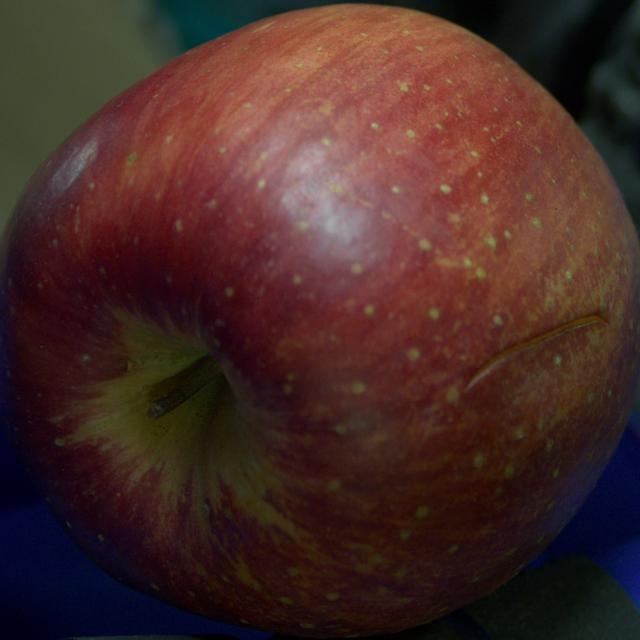apple: (0, 5, 639, 638)
scratch: (466, 316, 608, 390), (125, 361, 134, 372)
